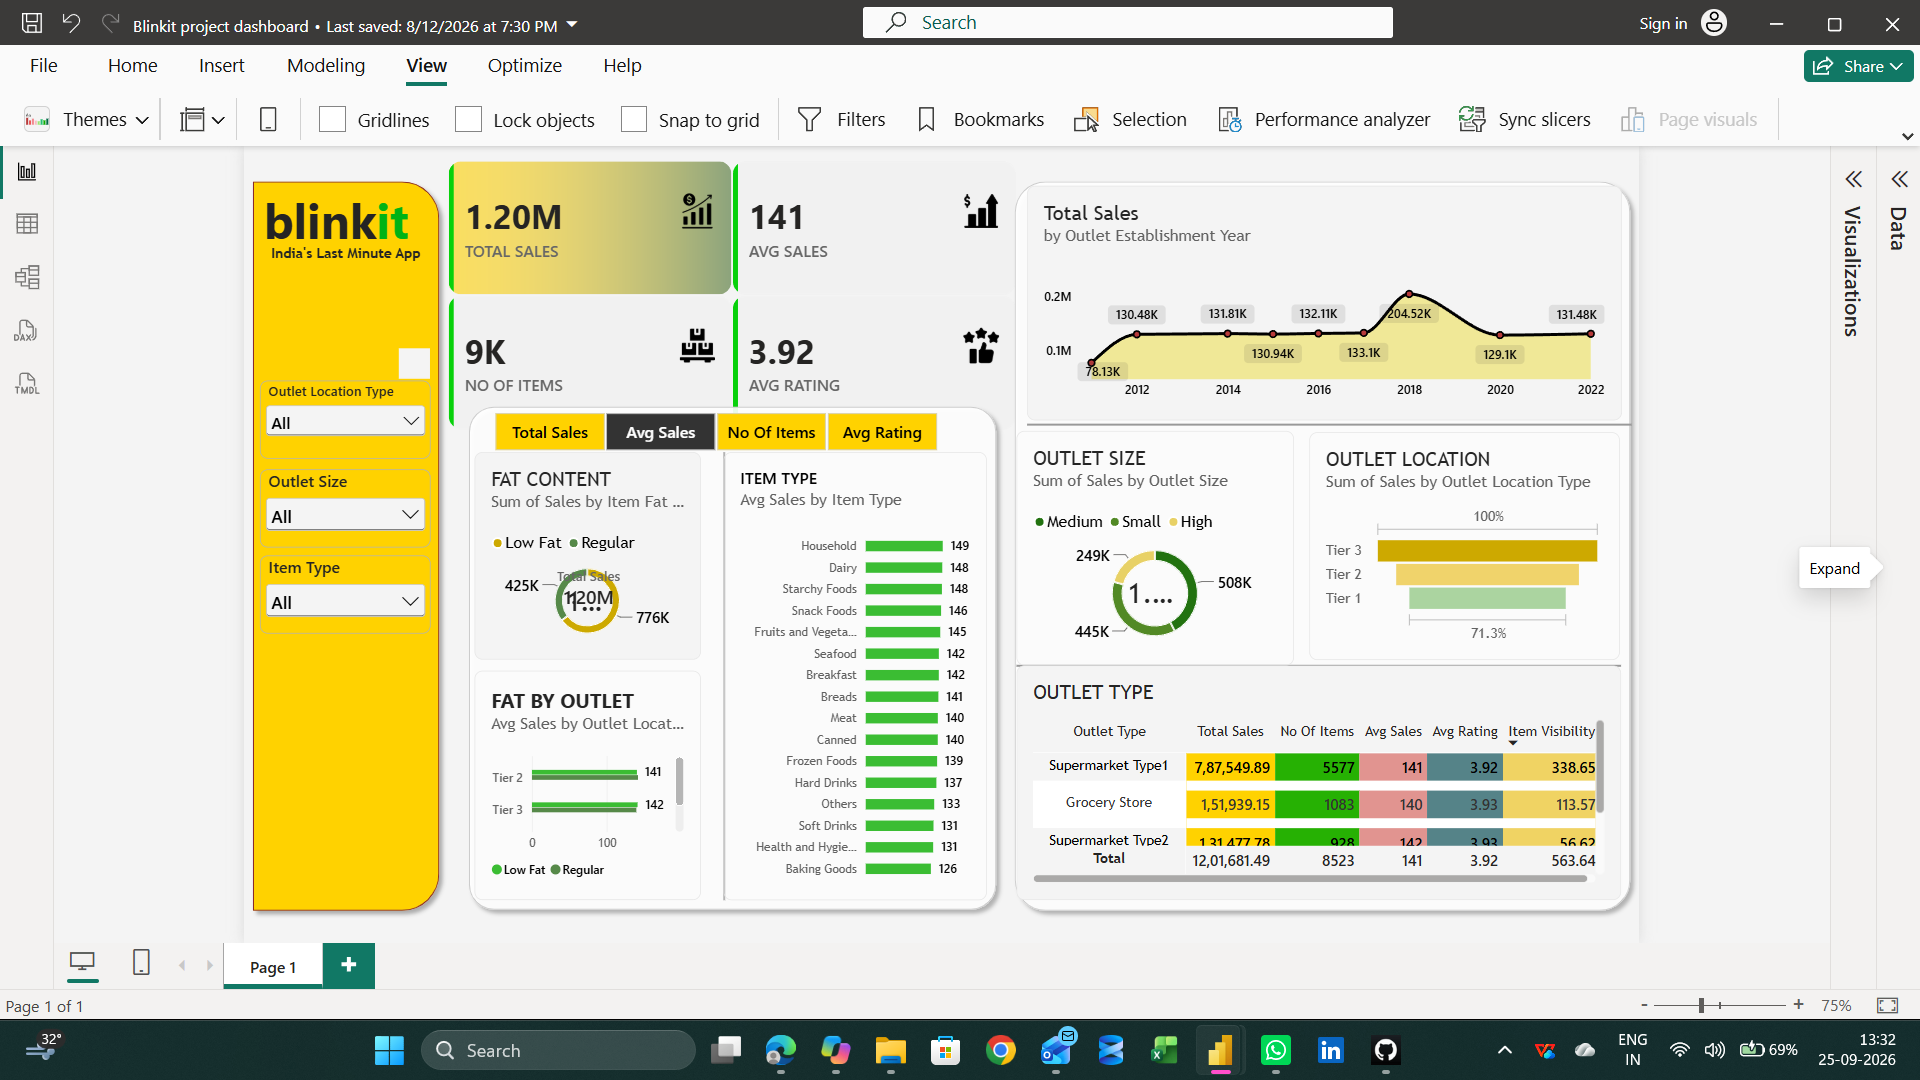

The page's visual inventory and layout, read from the dashboard file:
{"tool":"powerbi","page":{"name":"Page 1","canvas":[1400,800],"ordinal":0},"visuals":[{"type":"shape","box":[0,26.1,205,750],"z":0},{"type":"textbox","box":[20.3,40.6,168.2,75.4],"z":1000},{"type":"textbox","box":[252.5,26,205,750],"z":2000},{"type":"textbox","box":[17.4,100.1,169.7,31.9],"z":3000},{"type":"cardVisual","fields":{"Data":["BlinkIT Grocery Data.Total Sales","BlinkIT Grocery Data.Avg Sales","BlinkIT Grocery Data.No Of Items","BlinkIT Grocery Data.Avg Rating"]},"box":[205,15,570,270],"z":4000},{"type":"shape","box":[217.1,252.9,547.1,522.9],"z":5000},{"type":"donutChart","title":"FAT CONTENT","fields":{"Y":["Sum(BlinkIT Grocery Data.Sales)"],"Category":["BlinkIT Grocery Data.Item Fat Content"]},"box":[231.4,307.1,227.1,208.6],"z":5001},{"type":"slicer","fields":{"Values":["Metrics.Metrics"]},"box":[231.4,265.7,482.9,41.4],"z":5002},{"type":"cardVisual","fields":{"Data":["BlinkIT Grocery Data.Total Sales"]},"box":[281.4,397.4,128.6,92.9],"z":5003},{"type":"clusteredBarChart","title":"FAT BY OUTLET","fields":{"Category":["BlinkIT Grocery Data.Outlet Location Type"],"Y":["BlinkIT Grocery Data.Avg Sales"],"Series":["BlinkIT Grocery Data.Item Fat Content"]},"box":[231.4,527.1,227.1,230],"z":5004},{"type":"shape","box":[472.9,307.1,17.1,450],"z":5005},{"type":"barChart","title":"ITEM TYPE","fields":{"Category":["BlinkIT Grocery Data.Item Type"],"Y":["BlinkIT Grocery Data.Avg Sales"]},"box":[481.4,307.1,264.3,450],"z":5006},{"type":"shape","box":[764.3,27.1,635.7,750],"z":5007},{"type":"lineChart","fields":{"Y":["BlinkIT Grocery Data.Total Sales"],"Category":["BlinkIT Grocery Data.Outlet Establishment Year"]},"box":[785.7,40,597.1,235.7],"z":5008},{"type":"shape","box":[775.7,515.7,607.1,11.4],"z":5009},{"type":"donutChart","title":"OUTLET SIZE","fields":{"Y":["Sum(BlinkIT Grocery Data.Sales)"],"Category":["BlinkIT Grocery Data.Outlet Size"]},"box":[775.7,285.7,278.6,235.7],"z":5011},{"type":"funnel","title":"OUTLET LOCATION","fields":{"Y":["Sum(BlinkIT Grocery Data.Sales)"],"Category":["BlinkIT Grocery Data.Outlet Location Type"]},"box":[1068.6,287.1,311.4,228.6],"z":5012},{"type":"shape","box":[785.7,274.3,607.1,11.4],"z":5013},{"type":"pivotTable","title":"OUTLET TYPE","fields":{"Rows":["BlinkIT Grocery Data.Outlet Type"],"Values":["BlinkIT Grocery Data.Total Sales","BlinkIT Grocery Data.No Of Items","BlinkIT Grocery Data.Avg Sales","BlinkIT Grocery Data.Avg Rating","Sum(BlinkIT Grocery Data.Item Visibility)"]},"box":[775.7,521.4,607.1,235.7],"z":5014},{"type":"slicer","fields":{"Values":["BlinkIT Grocery Data.Outlet Location Type"]},"box":[15.7,235.7,171.4,78.6],"z":5015},{"type":"slicer","fields":{"Values":["BlinkIT Grocery Data.Outlet Size"]},"box":[15.7,324.3,171.4,78.6],"z":5016},{"type":"slicer","fields":{"Values":["BlinkIT Grocery Data.Item Type"]},"box":[15.7,411.4,171.4,78.6],"z":5017}]}

Visuals, with their boxes on the page's 1400x800 design canvas (x1, y1, x2, y2). These are canvas units, not pixel positions in the 1920x1080 screenshot, which may show the page scaled, cropped or inside an application window:
shape: pyautogui.locateOnScreen(0, 26, 205, 776)
textbox: pyautogui.locateOnScreen(20, 41, 188, 116)
textbox: pyautogui.locateOnScreen(252, 26, 458, 776)
textbox: pyautogui.locateOnScreen(17, 100, 187, 132)
cardVisual - BlinkIT Grocery Data.Total Sales x BlinkIT Grocery Data.Avg Sales: pyautogui.locateOnScreen(205, 15, 775, 285)
shape: pyautogui.locateOnScreen(217, 253, 764, 776)
"FAT CONTENT" donutChart: pyautogui.locateOnScreen(231, 307, 458, 516)
slicer - Metrics.Metrics: pyautogui.locateOnScreen(231, 266, 714, 307)
cardVisual - BlinkIT Grocery Data.Total Sales: pyautogui.locateOnScreen(281, 397, 410, 490)
"FAT BY OUTLET" clusteredBarChart: pyautogui.locateOnScreen(231, 527, 458, 757)
shape: pyautogui.locateOnScreen(473, 307, 490, 757)
"ITEM TYPE" barChart: pyautogui.locateOnScreen(481, 307, 746, 757)
shape: pyautogui.locateOnScreen(764, 27, 1400, 777)
lineChart - BlinkIT Grocery Data.Total Sales x BlinkIT Grocery Data.Outlet Establishment Year: pyautogui.locateOnScreen(786, 40, 1383, 276)
shape: pyautogui.locateOnScreen(776, 516, 1383, 527)
"OUTLET SIZE" donutChart: pyautogui.locateOnScreen(776, 286, 1054, 521)
"OUTLET LOCATION" funnel: pyautogui.locateOnScreen(1069, 287, 1380, 516)
shape: pyautogui.locateOnScreen(786, 274, 1393, 286)
"OUTLET TYPE" pivotTable: pyautogui.locateOnScreen(776, 521, 1383, 757)
slicer - BlinkIT Grocery Data.Outlet Location Type: pyautogui.locateOnScreen(16, 236, 187, 314)
slicer - BlinkIT Grocery Data.Outlet Size: pyautogui.locateOnScreen(16, 324, 187, 403)
slicer - BlinkIT Grocery Data.Item Type: pyautogui.locateOnScreen(16, 411, 187, 490)
